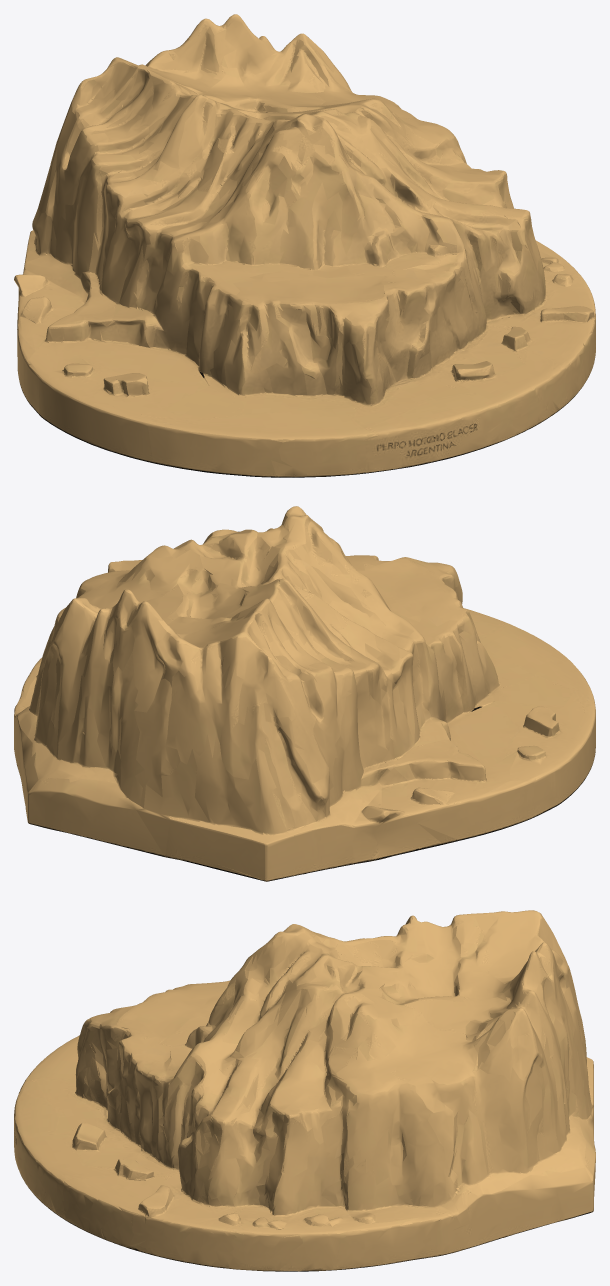
File: perito_moreno.glb
3 renders of one model, top to bottom at view 1: azimuth 30°, elevation 25°; view 2: azimuth 150°, elevation 25°; view 3: azimuth 270°, elevation 25°, orthographic. The views are drawn at different scales.
Size of the model in its own units: 1.88 by 0.8192 by 1.9.
Materials: 1 (1 with a texture image).
